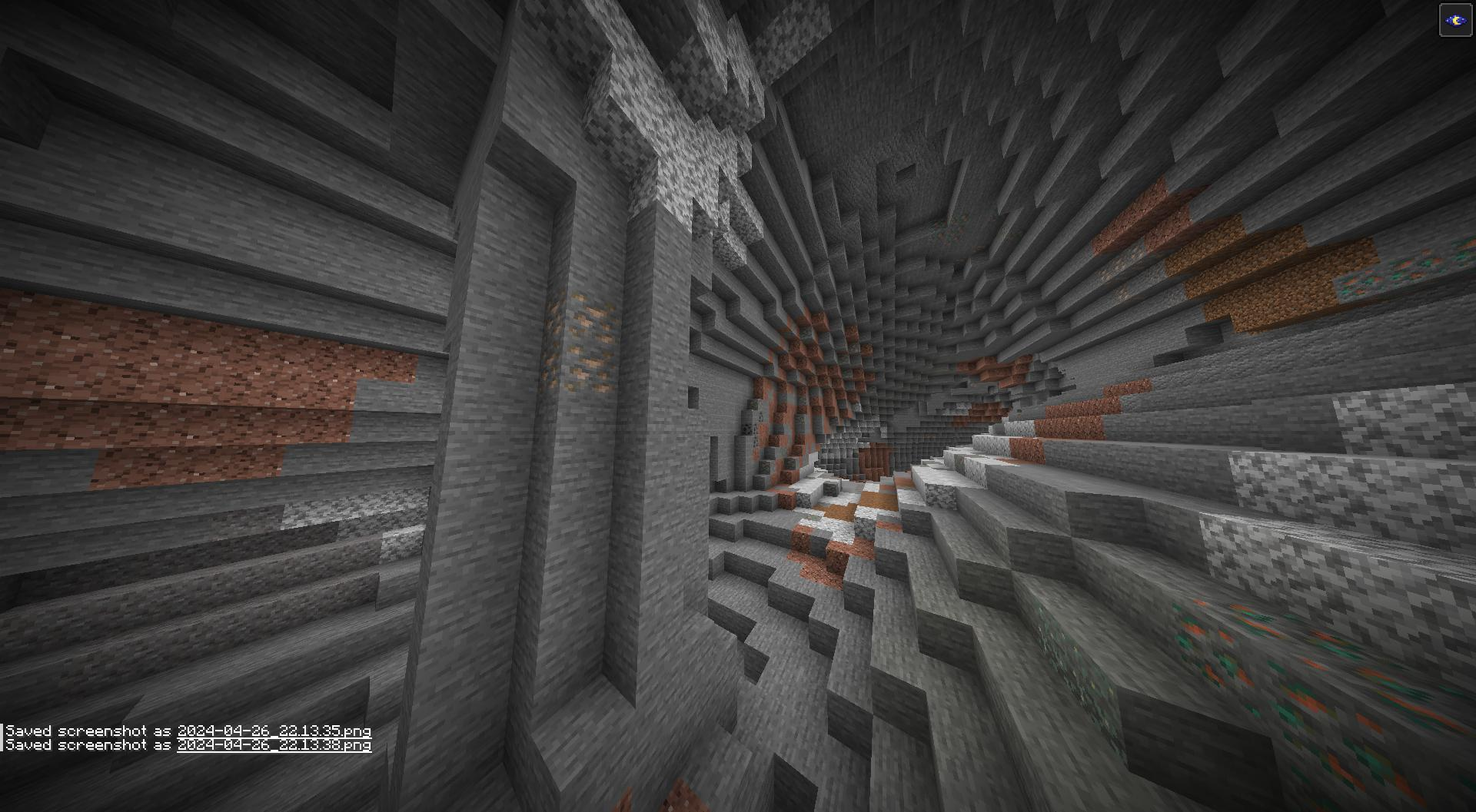iron ore: (537, 291, 625, 347), (541, 340, 608, 394)
